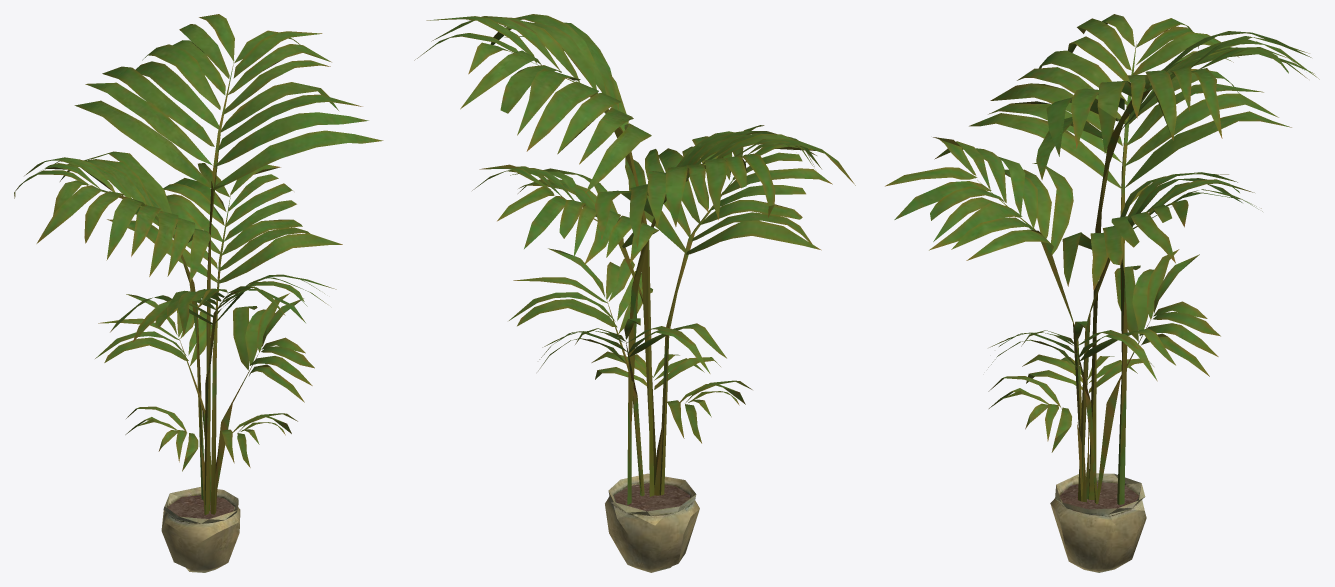
File: plant-palm-large.lod1.glb
The picture shows the model from 3 angles, left to right: view 1: azimuth 30°, elevation 25°; view 2: azimuth 150°, elevation 25°; view 3: azimuth 270°, elevation 25°; orthographic projection. The views are drawn at different scales.
Parts seen in each view (by area): view 1: plant-palm-large; view 2: plant-palm-large; view 3: plant-palm-large.
Boxes of the visible parts, x1=… form: plant-palm-large: x1=14, y1=14, x2=383, y2=572; plant-palm-large: x1=414, y1=14, x2=855, y2=572; plant-palm-large: x1=885, y1=14, x2=1319, y2=572.
Bounding box in the file's own units: 0.9279 × 1.28 × 0.8945.
Materials: 1 (1 with a texture image).
